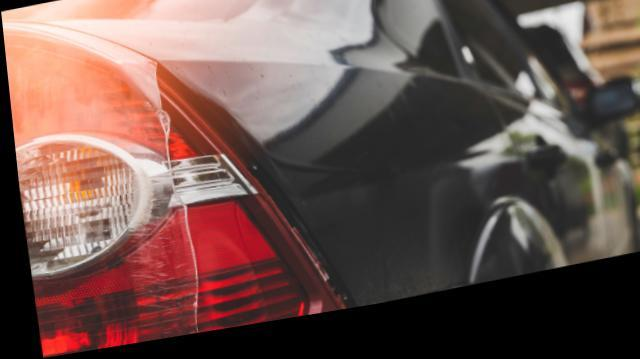lamp broken: (2, 25, 342, 358)
